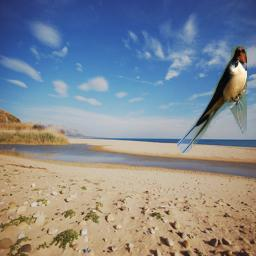Swallow: (177, 46, 247, 153)
